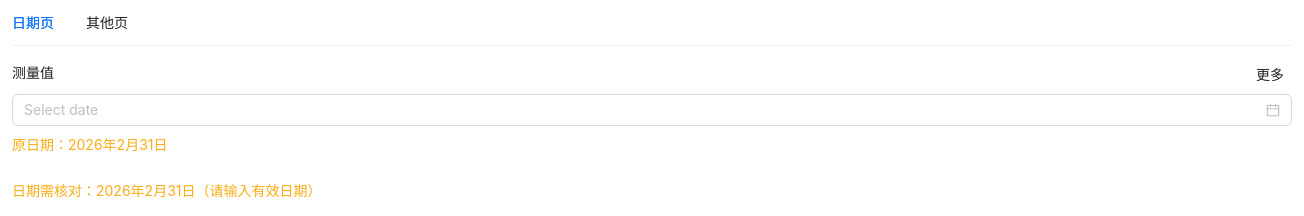
keeps an invalid historical partial date readable after its tab remounts
This screenshot has width=1304, height=216.
Click the tab "其他页" at (107, 23), box [86,12,128,34]
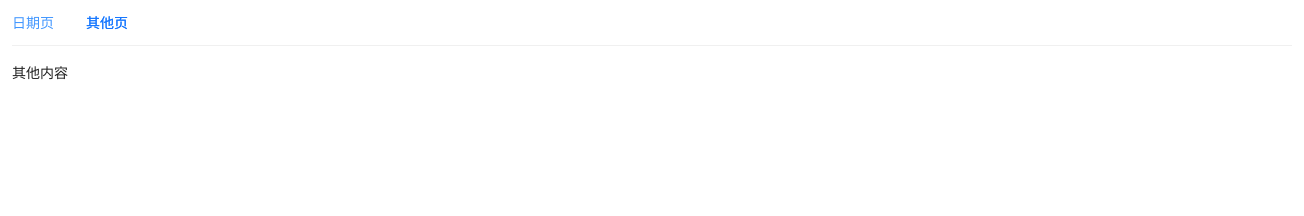
Click the tab "日期页" at (33, 23), box [12,12,54,34]
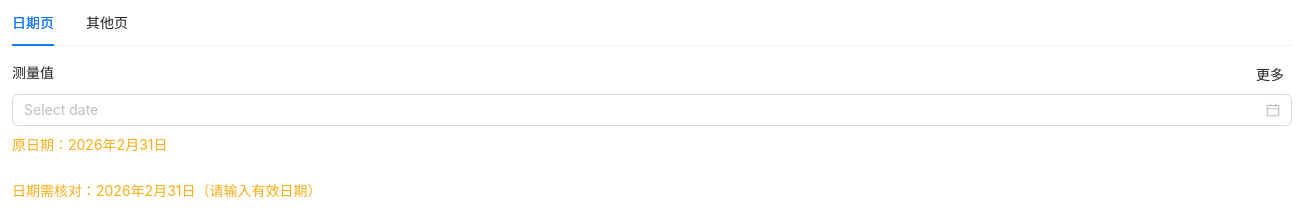
Expected: the text "原日期：2026年2月31日" is shown, [12,136,168,153]
Expected: the text "日期需核对：2026年2月31日（请输入有效日期）" is shown, [12,182,322,199]
